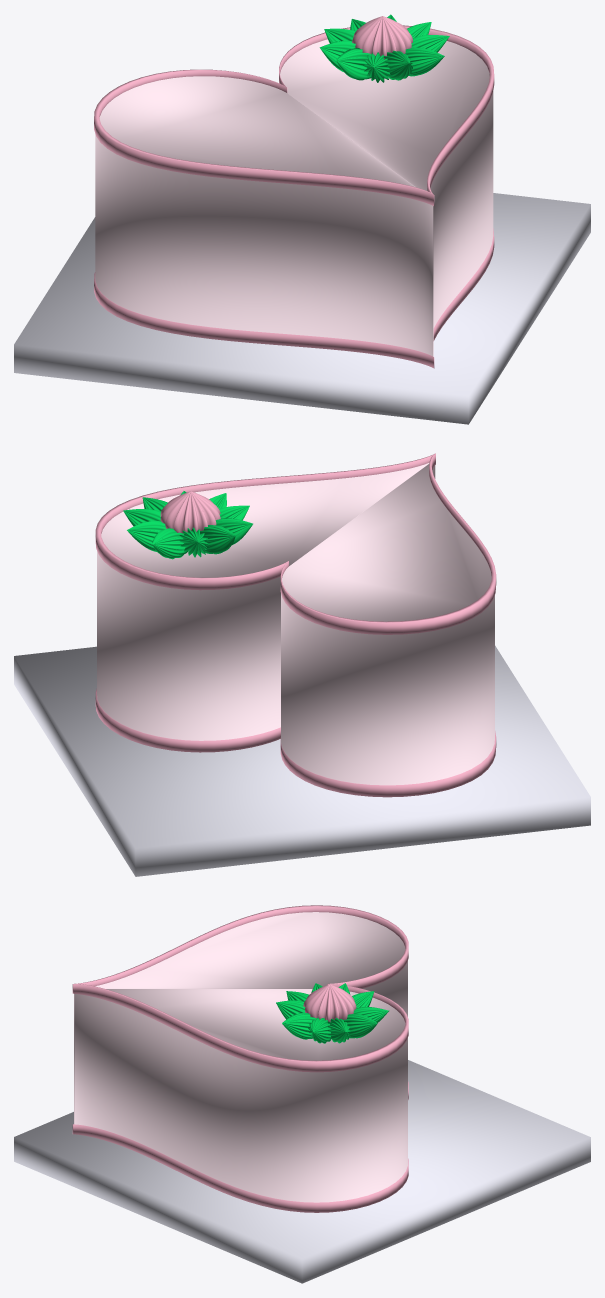
Rendered from heart_strawberry_style3.glb.
3 views of the same model, one above another, from view 1: azimuth 30°, elevation 25°; view 2: azimuth 150°, elevation 25°; view 3: azimuth 270°, elevation 25° (orthographic). The views are drawn at different scales.
Parts seen in each view (by area): view 1: HeartCake, IcingStand, IcingRing, IcingRing.001, leaf, design1; view 2: HeartCake, IcingStand, IcingRing, IcingRing.001, leaf, design1; view 3: HeartCake, IcingStand, IcingRing, IcingRing.001, leaf, design1.
Boxes of the visible parts, <box> form: HeartCake: <box>95,39,493,356</box>; IcingStand: <box>14,193,590,424</box>; IcingRing: <box>94,25,494,206</box>; IcingRing.001: <box>94,228,494,368</box>; leaf: <box>319,14,449,82</box>; design1: <box>352,16,412,59</box>; HeartCake: <box>97,463,494,785</box>; IcingStand: <box>14,645,590,876</box>; IcingRing: <box>95,453,496,634</box>; IcingRing.001: <box>95,688,496,797</box>; leaf: <box>123,491,252,559</box>; design1: <box>160,491,220,533</box>; HeartCake: <box>74,912,407,1202</box>; IcingStand: <box>14,1060,590,1283</box>; IcingRing: <box>72,905,408,1072</box>; IcingRing.001: <box>72,1081,408,1212</box>; leaf: <box>276,983,389,1043</box>; design1: <box>303,984,356,1021</box>.
Bounding box in the file's own units: 4.24 × 1.77 × 4.24.
